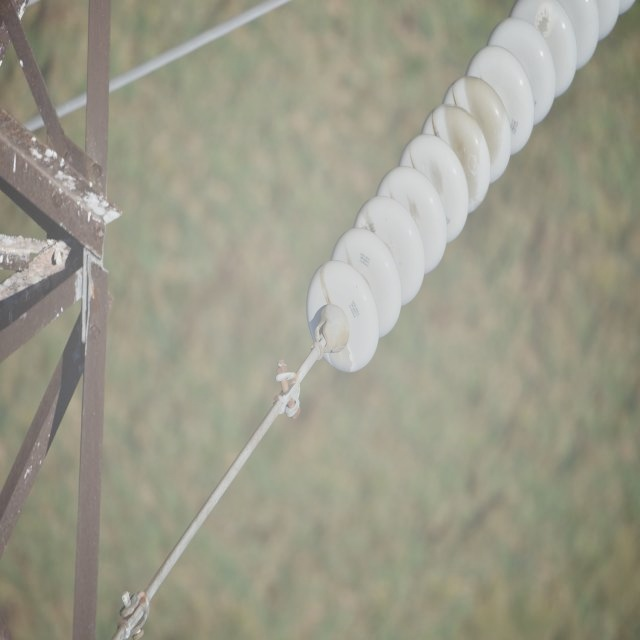insulator: (308, 0, 636, 372)
